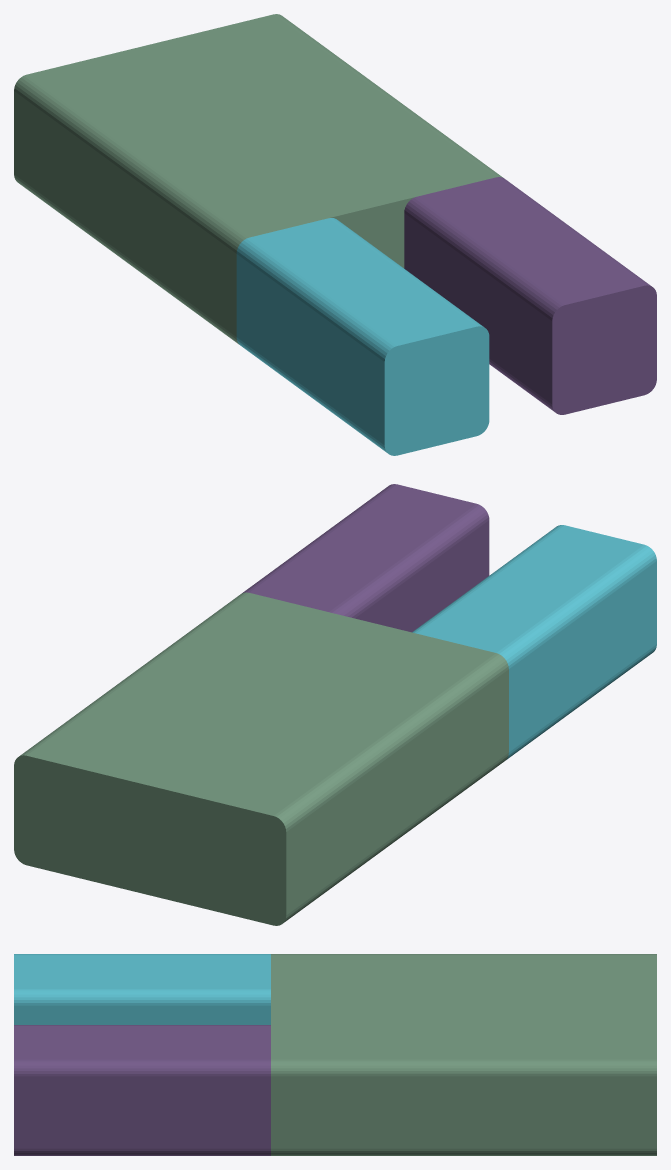
File: peg_42_body.obj
The picture shows the model from 3 angles, top to bottom: view 1: azimuth 30°, elevation 25°; view 2: azimuth 150°, elevation 25°; view 3: azimuth 270°, elevation 25°; orthographic projection. The views are drawn at different scales.
Visible parts, largest first — view 1: geometry_0, geometry_2, geometry_1; view 2: geometry_0, geometry_2, geometry_1; view 3: geometry_0, geometry_1, geometry_2.
Part boxes in pixels (x1=…): geometry_0: x1=14, y1=14, x2=503, y2=344; geometry_2: x1=236, y1=218, x2=489, y2=455; geometry_1: x1=404, y1=177, x2=656, y2=414; geometry_0: x1=14, y1=592, x2=508, y2=925; geometry_2: x1=412, y1=525, x2=656, y2=759; geometry_1: x1=242, y1=484, x2=489, y2=632; geometry_0: x1=271, y1=954, x2=656, y2=1155; geometry_1: x1=14, y1=1025, x2=270, y2=1155; geometry_2: x1=14, y1=954, x2=270, y2=1024.
Size of the model in its own units: 0.053 by 0.0204 by 0.125.
